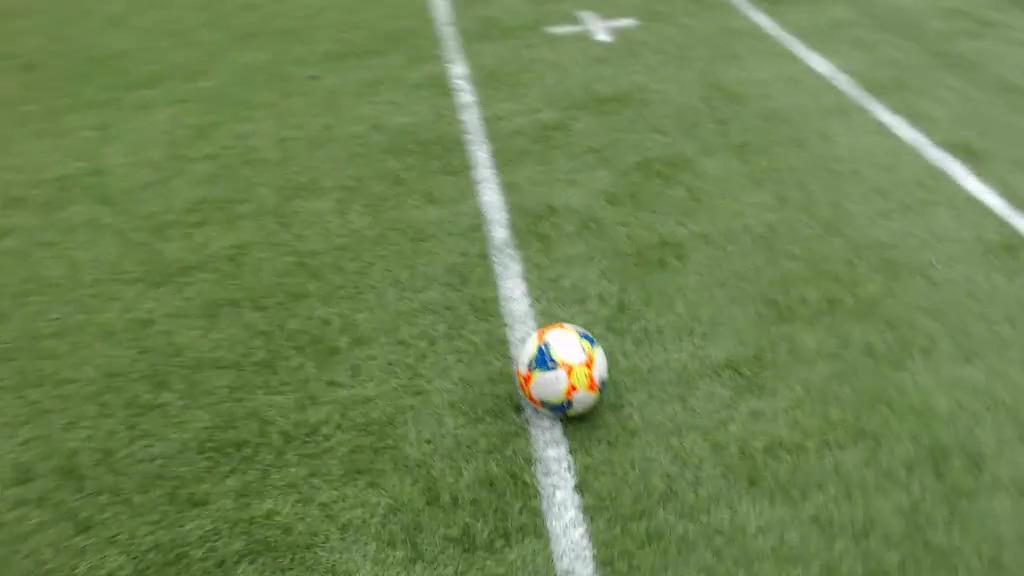ball: (517, 322, 606, 417)
